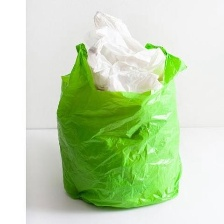plastic_bag: (54, 35, 192, 210), (78, 3, 168, 99)
